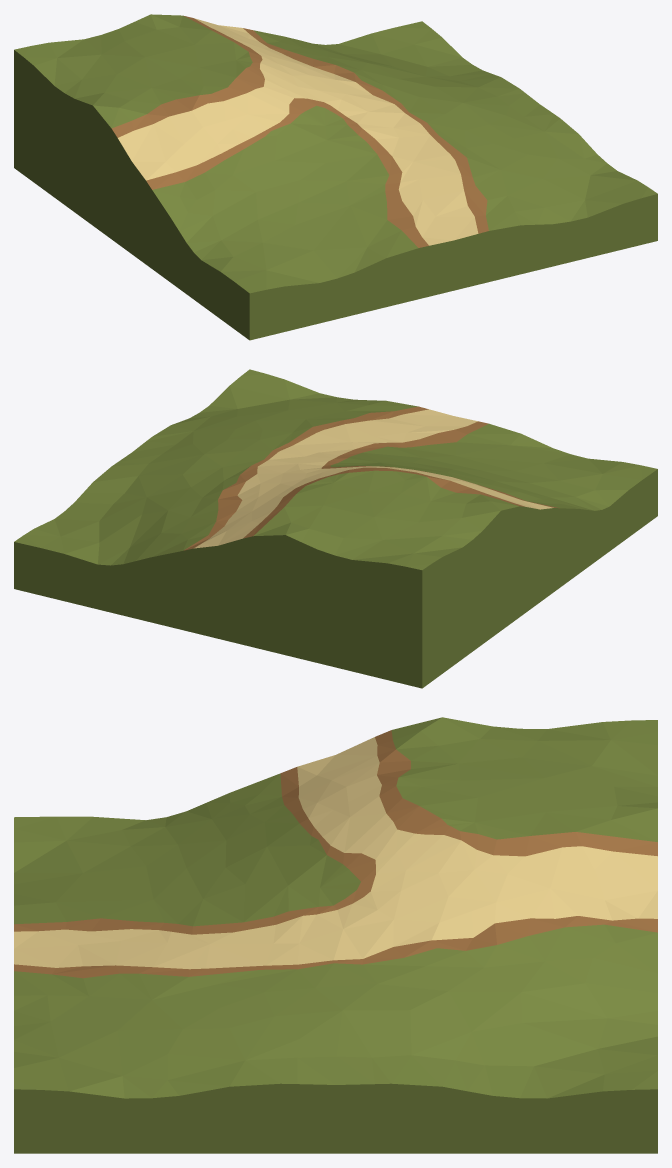
The model's file is Terrian_Road_Int_HillCorner-02.fbx.
The picture shows the model from 3 angles, top to bottom: view 1: azimuth 30°, elevation 25°; view 2: azimuth 150°, elevation 25°; view 3: azimuth 270°, elevation 25°; orthographic projection. The views are drawn at different scales.
Visible parts, largest first — view 1: Terrian_Road_Int_HillCorner-02; view 2: Terrian_Road_Int_HillCorner-02; view 3: Terrian_Road_Int_HillCorner-02.
Part boxes in pixels (x1,y1,x2,y2): Terrian_Road_Int_HillCorner-02: (14,14,657,340); Terrian_Road_Int_HillCorner-02: (14,369,657,688); Terrian_Road_Int_HillCorner-02: (14,717,657,1153).
Bounding box in the file's own units: 3600 × 1020 × 3600.
1 material, 1 textured.
